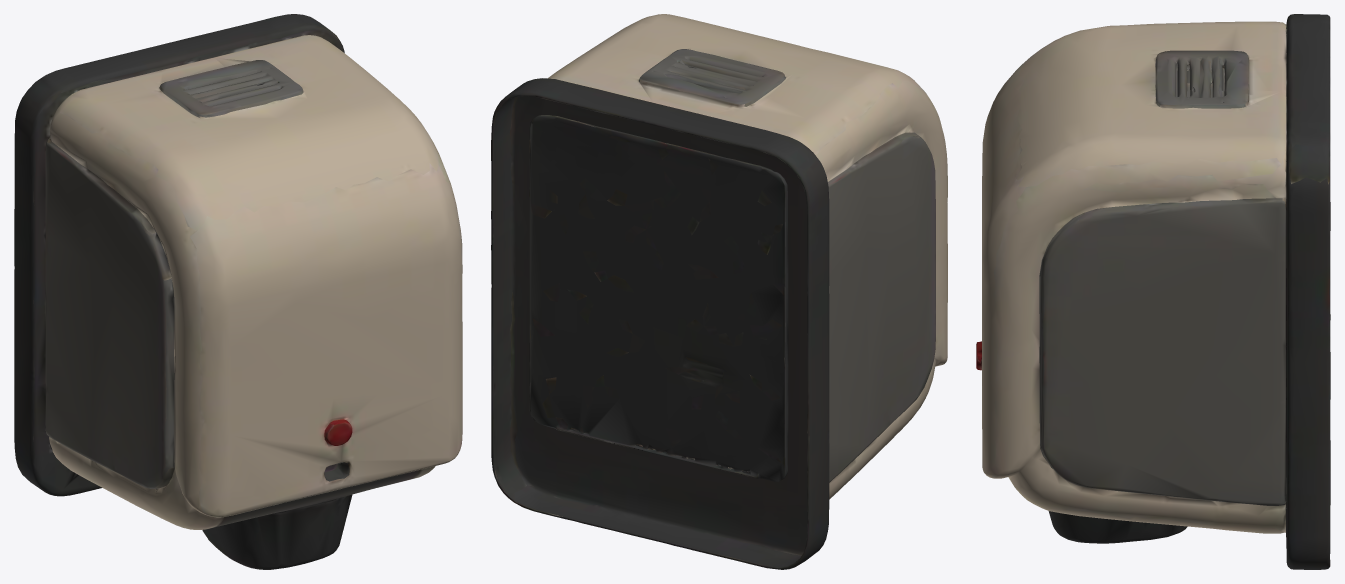
File: hand_dryer.glb
3 views of the same model, side by side, from view 1: azimuth 30°, elevation 25°; view 2: azimuth 150°, elevation 25°; view 3: azimuth 270°, elevation 25° (orthographic). The views are drawn at different scales.
Visible parts, largest first — view 1: geometry_0; view 2: geometry_0; view 3: geometry_0.
Part boxes in pixels (x1,y1,x2,y2): geometry_0: (14, 14, 462, 569); geometry_0: (491, 14, 947, 569); geometry_0: (976, 14, 1330, 569).
Bounding box in the file's own units: 0.773 × 1 × 0.7242.
Materials: 1 (1 with a texture image).
